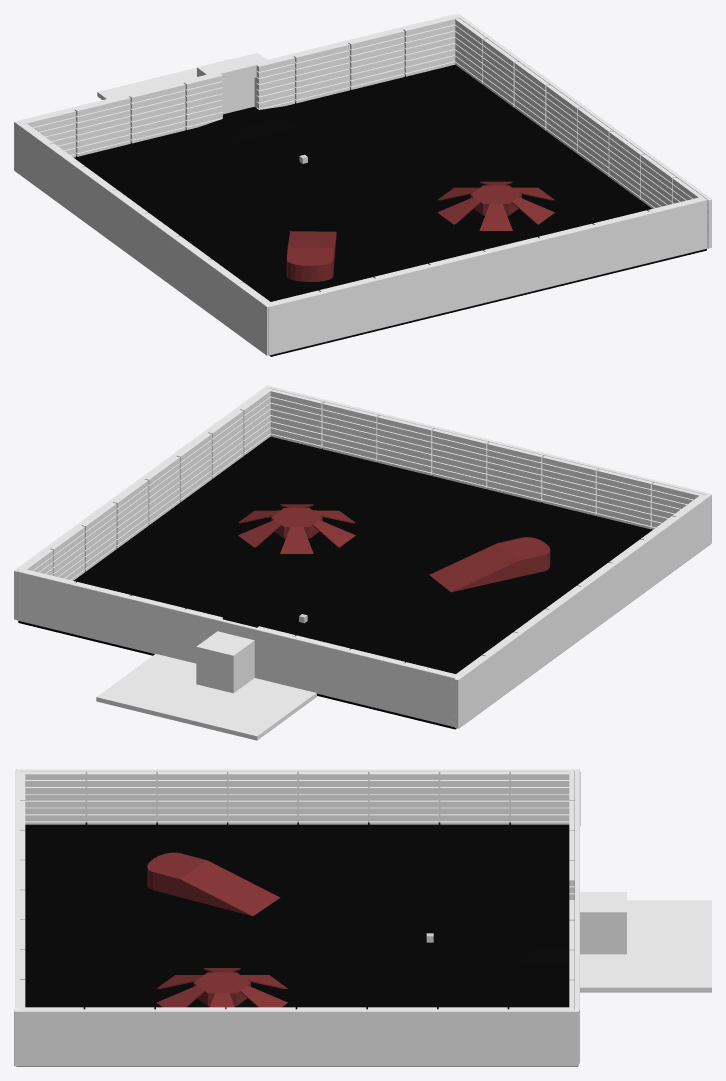
The model's file is level 1.glb.
The picture shows the model from 3 angles, top to bottom: view 1: azimuth 30°, elevation 25°; view 2: azimuth 150°, elevation 25°; view 3: azimuth 270°, elevation 25°; orthographic projection. The views are drawn at different scales.
Visible parts, largest first — view 1: Cube.005, Circle, Cube, Cube.006; view 2: Cube.005, Cube, Circle, Cube.006; view 3: Cube.005, Cube, Circle, Cube.006.
Boxes of the visible parts, left/top/right/bottom form: Cube.005: left=14, top=14, right=711, bottom=356; Circle: left=437, top=181, right=554, bottom=230; Cube: left=286, top=231, right=336, bottom=281; Cube.006: left=197, top=58, right=254, bottom=114; Cube.005: left=14, top=385, right=711, bottom=740; Cube: left=429, top=537, right=550, bottom=592; Circle: left=238, top=504, right=355, bottom=553; Cube.006: left=196, top=631, right=254, bottom=693; Cube.005: left=14, top=769, right=711, bottom=1066; Cube: left=147, top=852, right=280, bottom=916; Circle: left=156, top=968, right=287, bottom=1009; Cube.006: left=580, top=892, right=626, bottom=954.
Size of the model in its own units: 81.58 by 9.26 by 99.36.
